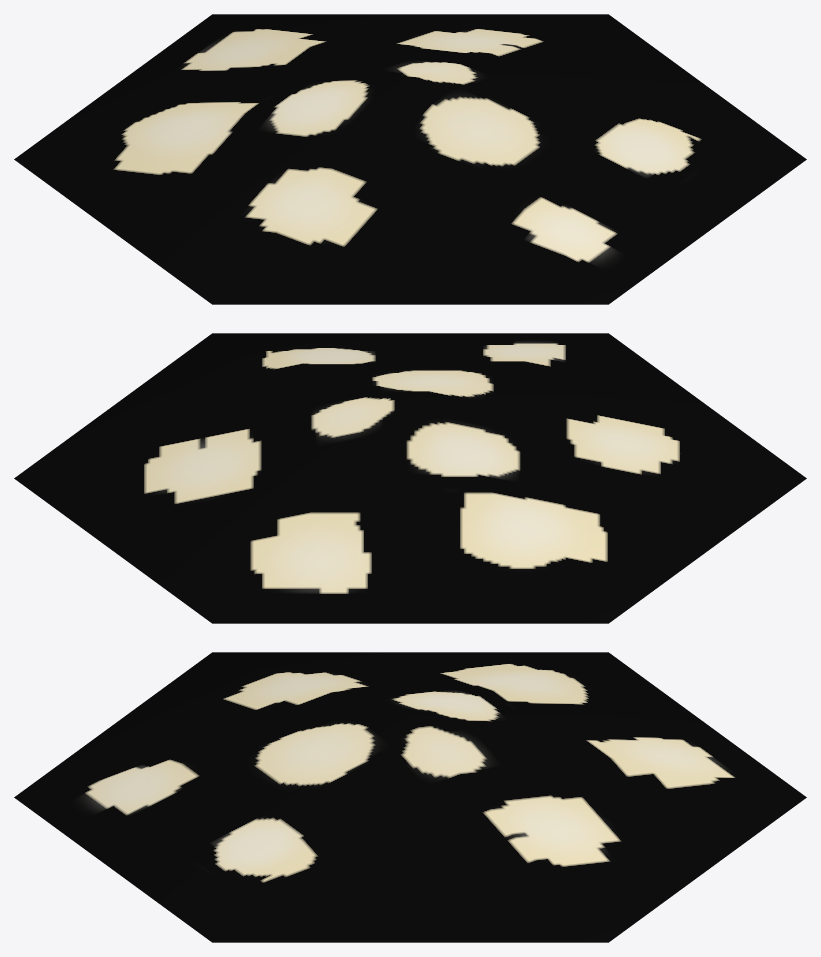
Rendered from petals.glb.
3 renders of one model, top to bottom at view 1: azimuth 30°, elevation 25°; view 2: azimuth 150°, elevation 25°; view 3: azimuth 270°, elevation 25°, orthographic.
Visible parts, largest first — view 1: flower 1_leaf and grass_0; view 2: flower 1_leaf and grass_0; view 3: flower 1_leaf and grass_0.
Boxes of the visible parts, left/top/right/bottom form: flower 1_leaf and grass_0: left=14, top=14, right=806, bottom=304; flower 1_leaf and grass_0: left=14, top=333, right=806, bottom=623; flower 1_leaf and grass_0: left=14, top=652, right=806, bottom=942.
Size of the model in its own units: 0.4237 by 0.0539 by 0.4892.
1 material, 1 textured.
